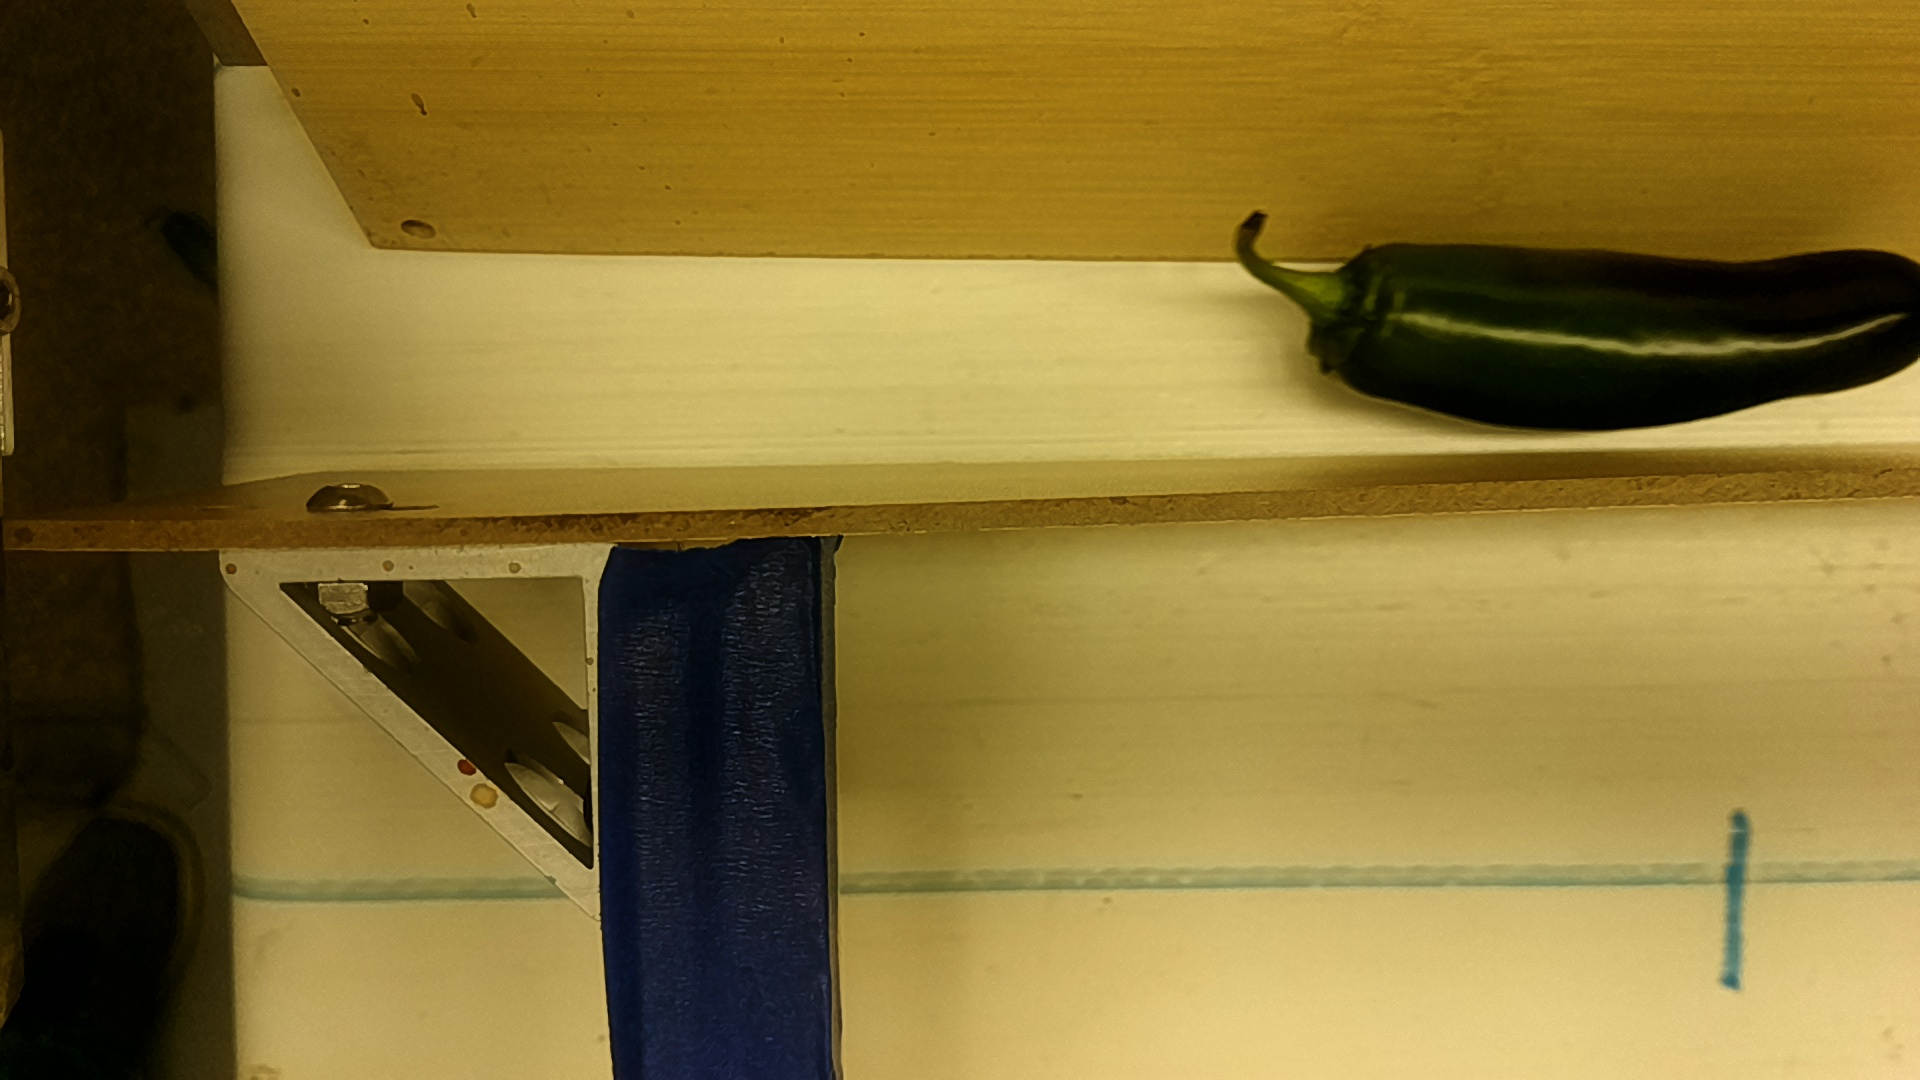Cut Point: (1308, 233, 1393, 404)
